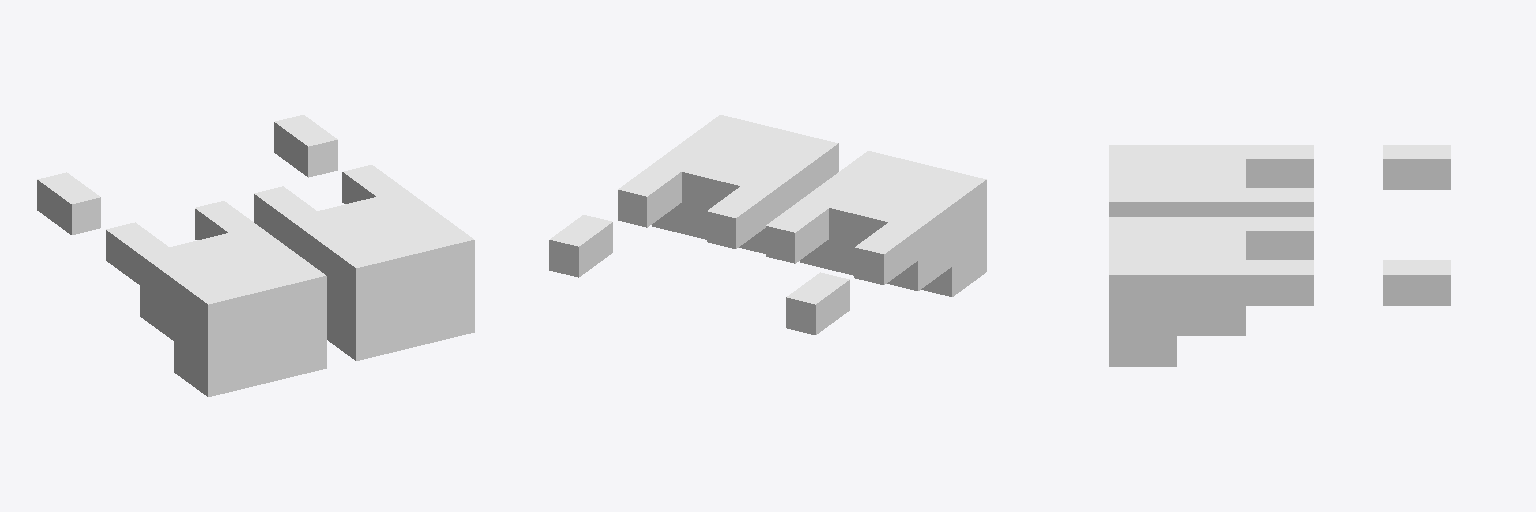
File: Body-34-MeteorSlicer_Fire2.obj
The picture shows the model from 3 angles: view 1: azimuth 30°, elevation 25°; view 2: azimuth 150°, elevation 25°; view 3: azimuth 270°, elevation 25°; orthographic projection.
Parts seen in each view (by area): view 1: MeteorSlicer_Fire2; view 2: MeteorSlicer_Fire2; view 3: MeteorSlicer_Fire2.
Part boxes in pixels (x1,y1,x2,y2): MeteorSlicer_Fire2: (37,115,474,396); MeteorSlicer_Fire2: (549,115,986,334); MeteorSlicer_Fire2: (1109,145,1450,366).
Bounding box in the file's own units: 0.9 × 0.3 × 1.